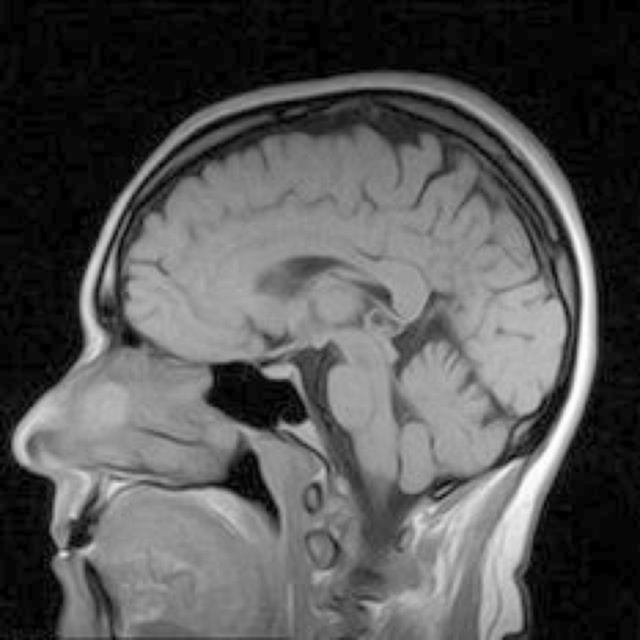glioma tumor: (153, 157, 502, 632)
